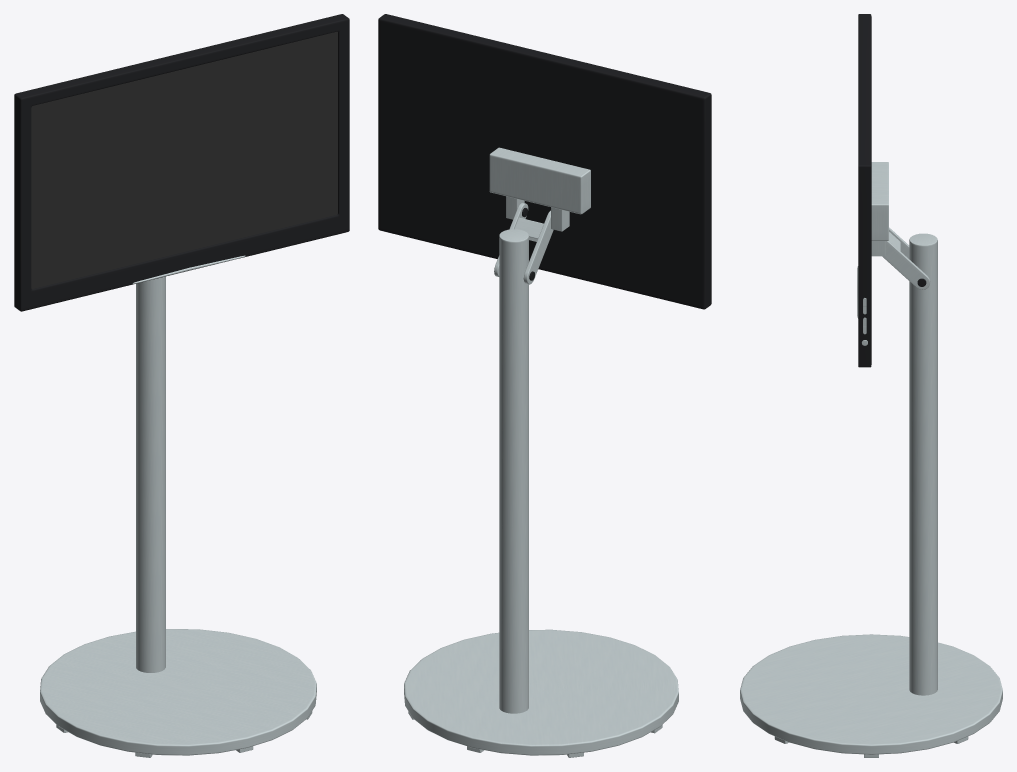
The model's file is screen_television_stand.obj.
The picture shows the model from 3 angles, left to right: view 1: azimuth 30°, elevation 25°; view 2: azimuth 150°, elevation 25°; view 3: azimuth 270°, elevation 25°; orthographic projection. The views are drawn at different scales.
Visible parts, largest first — view 1: screen_television_stand; view 2: screen_television_stand; view 3: screen_television_stand.
Part boxes in pixels (<box>): screen_television_stand: <box>14,14,349,757</box>; screen_television_stand: <box>378,14,711,757</box>; screen_television_stand: <box>740,14,1002,757</box>.
Bounding box in the file's own units: 65.08 × 122 × 47.37.
1 material, 1 textured.
